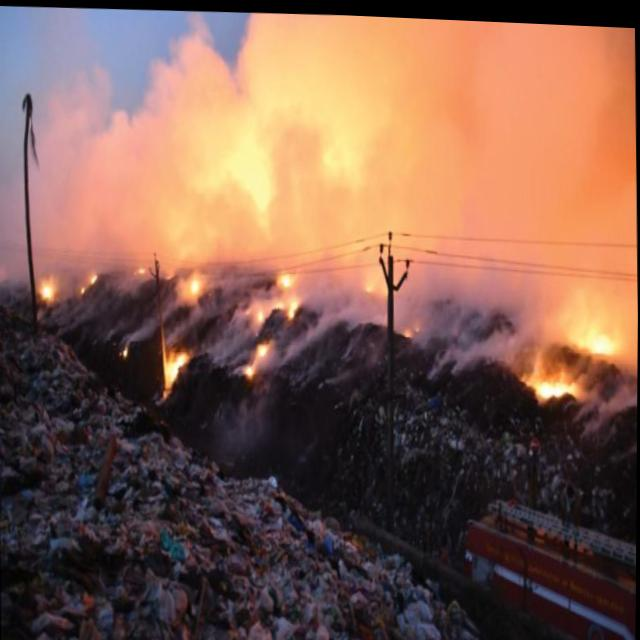fire: (155, 335, 195, 402), (563, 314, 622, 354), (236, 333, 274, 386), (528, 367, 583, 401), (34, 270, 61, 310), (178, 268, 206, 305), (272, 261, 299, 294), (248, 300, 269, 329), (282, 294, 302, 318), (129, 260, 150, 277), (116, 339, 131, 360), (402, 318, 417, 338), (88, 266, 98, 289), (363, 276, 374, 294), (79, 281, 85, 300)
